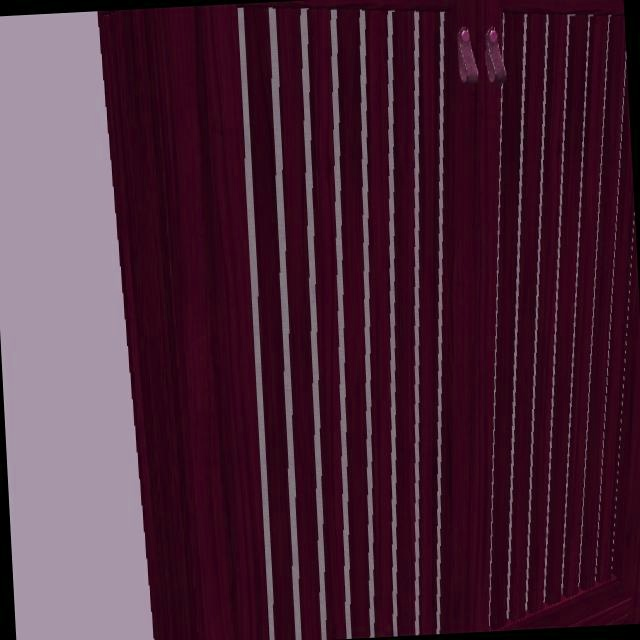wardrobe: (97, 0, 640, 640)
